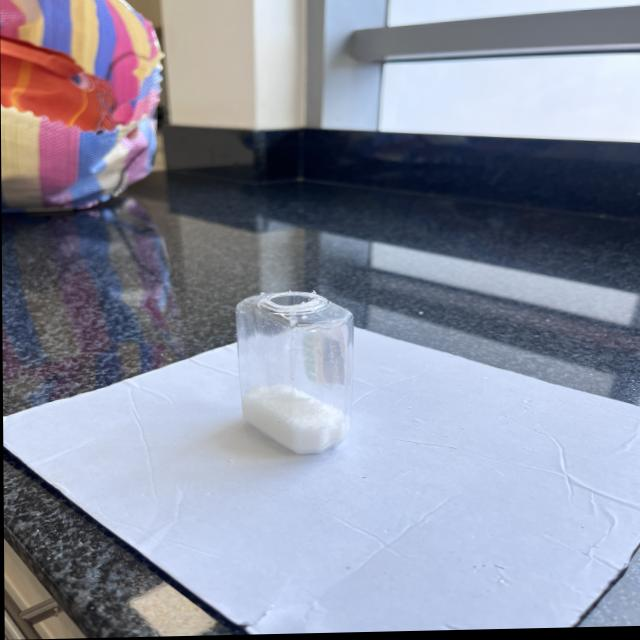salt: (238, 382, 352, 460)
